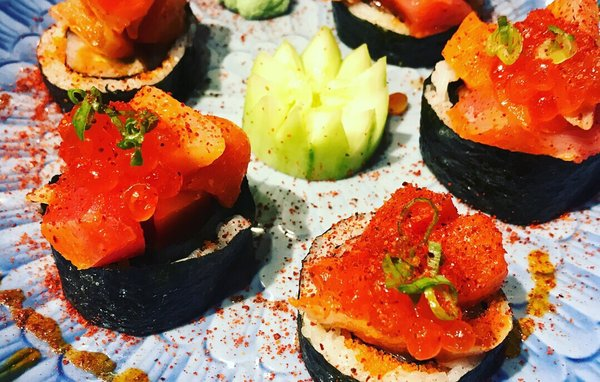soup: (291, 183, 514, 375)
